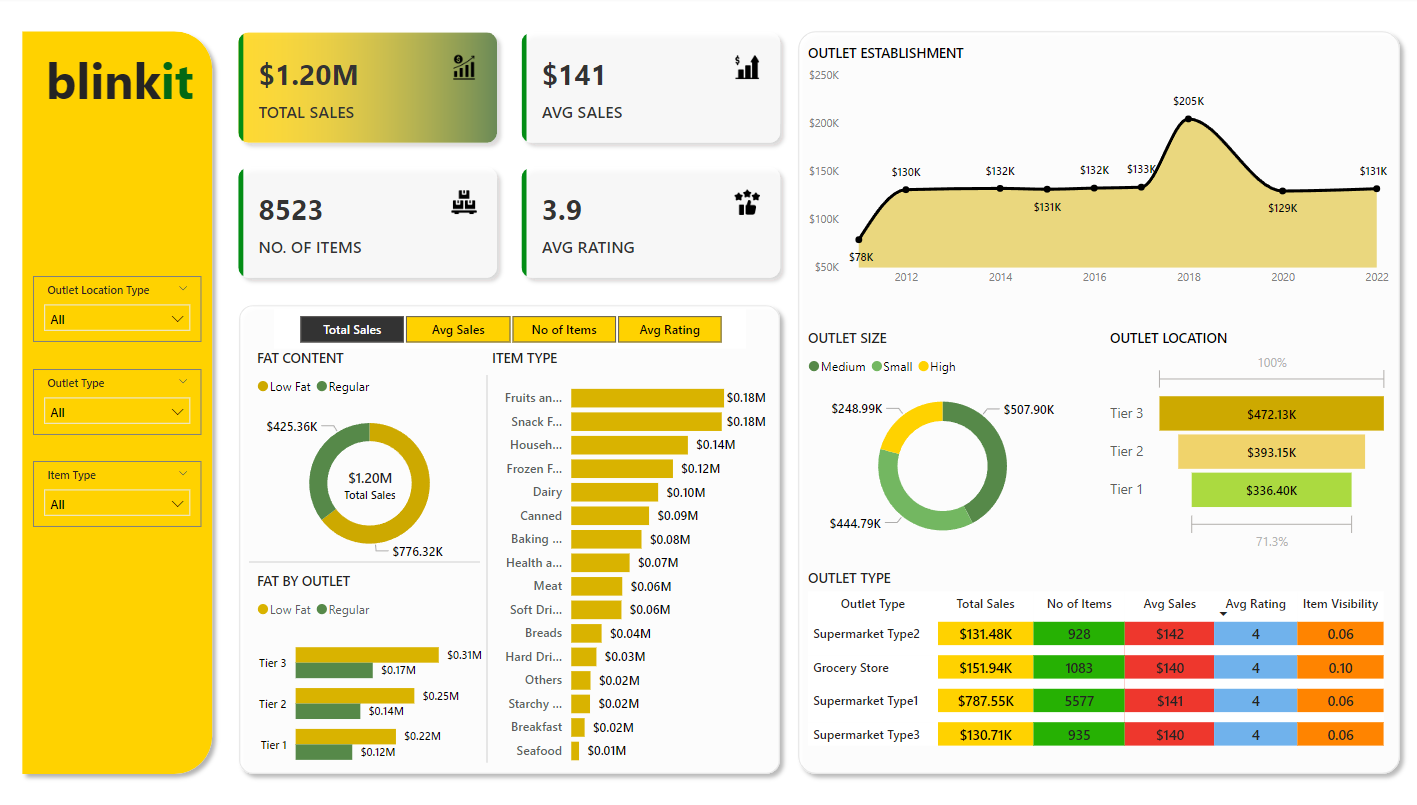

What the dashboard file says about the page in this screenshot:
{"tool":"powerbi","page":{"name":"Page 1","canvas":[1400,800],"ordinal":0},"visuals":[{"type":"shape","box":[12.8,24.5,205.3,750],"z":0},{"type":"textbox","box":[40.4,43.6,166,74.5],"z":1000},{"type":"cardVisual","fields":{"Data":["BlinkIT Grocery Data.Total Sales","BlinkIT Grocery Data.Avg Sales","BlinkIT Grocery Data.No of Items","BlinkIT Grocery Data.Avg Rating"]},"box":[217.7,17.7,569.5,276.8],"z":2000},{"type":"shape","box":[226.6,294.6,550.7,479.8],"z":3000},{"type":"donutChart","title":"FAT CONTENT","fields":{"Y":["BlinkIT Grocery Data.Total Sales"],"Category":["BlinkIT Grocery Data.Item Fat Content"]},"box":[248.3,346.8,231.5,219.7],"z":4000},{"type":"slicer","fields":{"Values":["Metrics.Metrics"]},"box":[270,307.4,465,39.4],"z":5000},{"type":"cardVisual","fields":{"Data":["BlinkIT Grocery Data.Total Sales"]},"box":[308.4,448.3,112.3,58.1],"z":6000},{"type":"clusteredBarChart","title":"FAT BY OUTLET","fields":{"Y":["BlinkIT Grocery Data.Total Sales"],"Series":["BlinkIT Grocery Data.Item Fat Content"],"Category":["BlinkIT Grocery Data.Outlet Location Type"]},"box":[248.3,566.5,231.5,207.9],"z":7000},{"type":"barChart","title":"ITEM TYPE","fields":{"Y":["BlinkIT Grocery Data.Total Sales"],"Category":["BlinkIT Grocery Data.Item Type"]},"box":[479.8,346.8,279.8,419.7],"z":8000},{"type":"shape","box":[245.3,539.9,227.6,33.5],"z":9000},{"type":"shape","box":[466,372.4,27.6,382.3],"z":10000},{"type":"shape","box":[777.3,24.6,610.8,749.8],"z":11000},{"type":"lineChart","title":"OUTLET ESTABLISHMENT","fields":{"Category":["BlinkIT Grocery Data.Outlet Establishment Year"],"Y":["BlinkIT Grocery Data.Total Sales"]},"box":[791.1,46.3,582.3,248.3],"z":12000},{"type":"donutChart","title":"OUTLET SIZE","fields":{"Category":["BlinkIT Grocery Data.Outlet Size"],"Y":["BlinkIT Grocery Data.Total Sales"]},"box":[791.1,327.1,275,225],"z":13000},{"type":"funnel","title":"OUTLET LOCATION","fields":{"Y":["BlinkIT Grocery Data.Total Sales"],"Category":["BlinkIT Grocery Data.Outlet Location Type"]},"box":[1088.7,327.1,284.7,224.6],"z":14000},{"type":"pivotTable","title":"OUTLET TYPE","fields":{"Rows":["BlinkIT Grocery Data.Outlet Type"],"Values":["BlinkIT Grocery Data.Total Sales","BlinkIT Grocery Data.No of Items","BlinkIT Grocery Data.Avg Sales","BlinkIT Grocery Data.Avg Rating","Avg(BlinkIT Grocery Data.Item Visibility)"]},"box":[791.1,563.5,582.3,200],"z":15000},{"type":"slicer","fields":{"Values":["BlinkIT Grocery Data.Outlet Location Type"]},"box":[32.5,274.9,165.5,65],"z":15001},{"type":"slicer","fields":{"Values":["BlinkIT Grocery Data.Outlet Type"]},"box":[32.5,366.5,165.5,65],"z":15002},{"type":"slicer","fields":{"Values":["BlinkIT Grocery Data.Item Type"]},"box":[32.5,457.1,165.5,65],"z":15003}]}

Visuals, with their boxes in screenshot pixels (x1, y1, x2, y2), scaled from the page's 1400x800 canvas onto the 1417x805 screenshot:
shape: 13/25/221/779
textbox: 41/44/209/119
cardVisual - BlinkIT Grocery Data.Total Sales x BlinkIT Grocery Data.Avg Sales: 220/18/797/296
shape: 229/296/787/779
"FAT CONTENT" donutChart: 251/349/486/570
slicer - Metrics.Metrics: 273/309/744/349
cardVisual - BlinkIT Grocery Data.Total Sales: 312/451/426/510
"FAT BY OUTLET" clusteredBarChart: 251/570/486/779
"ITEM TYPE" barChart: 486/349/769/771
shape: 248/543/479/577
shape: 472/375/500/759
shape: 787/25/1405/779
"OUTLET ESTABLISHMENT" lineChart: 801/47/1390/296
"OUTLET SIZE" donutChart: 801/329/1079/556
"OUTLET LOCATION" funnel: 1102/329/1390/555
"OUTLET TYPE" pivotTable: 801/567/1390/768
slicer - BlinkIT Grocery Data.Outlet Location Type: 33/277/200/342
slicer - BlinkIT Grocery Data.Outlet Type: 33/369/200/434
slicer - BlinkIT Grocery Data.Item Type: 33/460/200/525
